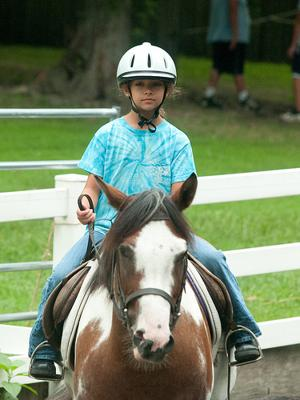person: (28, 38, 262, 378)
